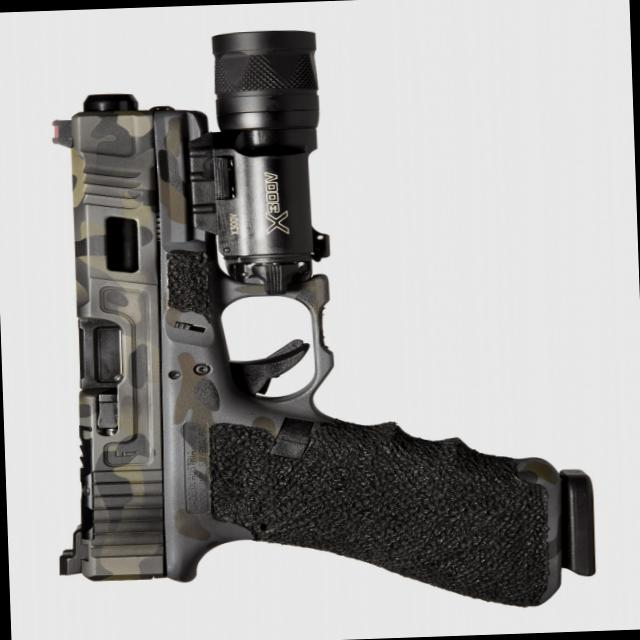handgun: (38, 15, 602, 628)
